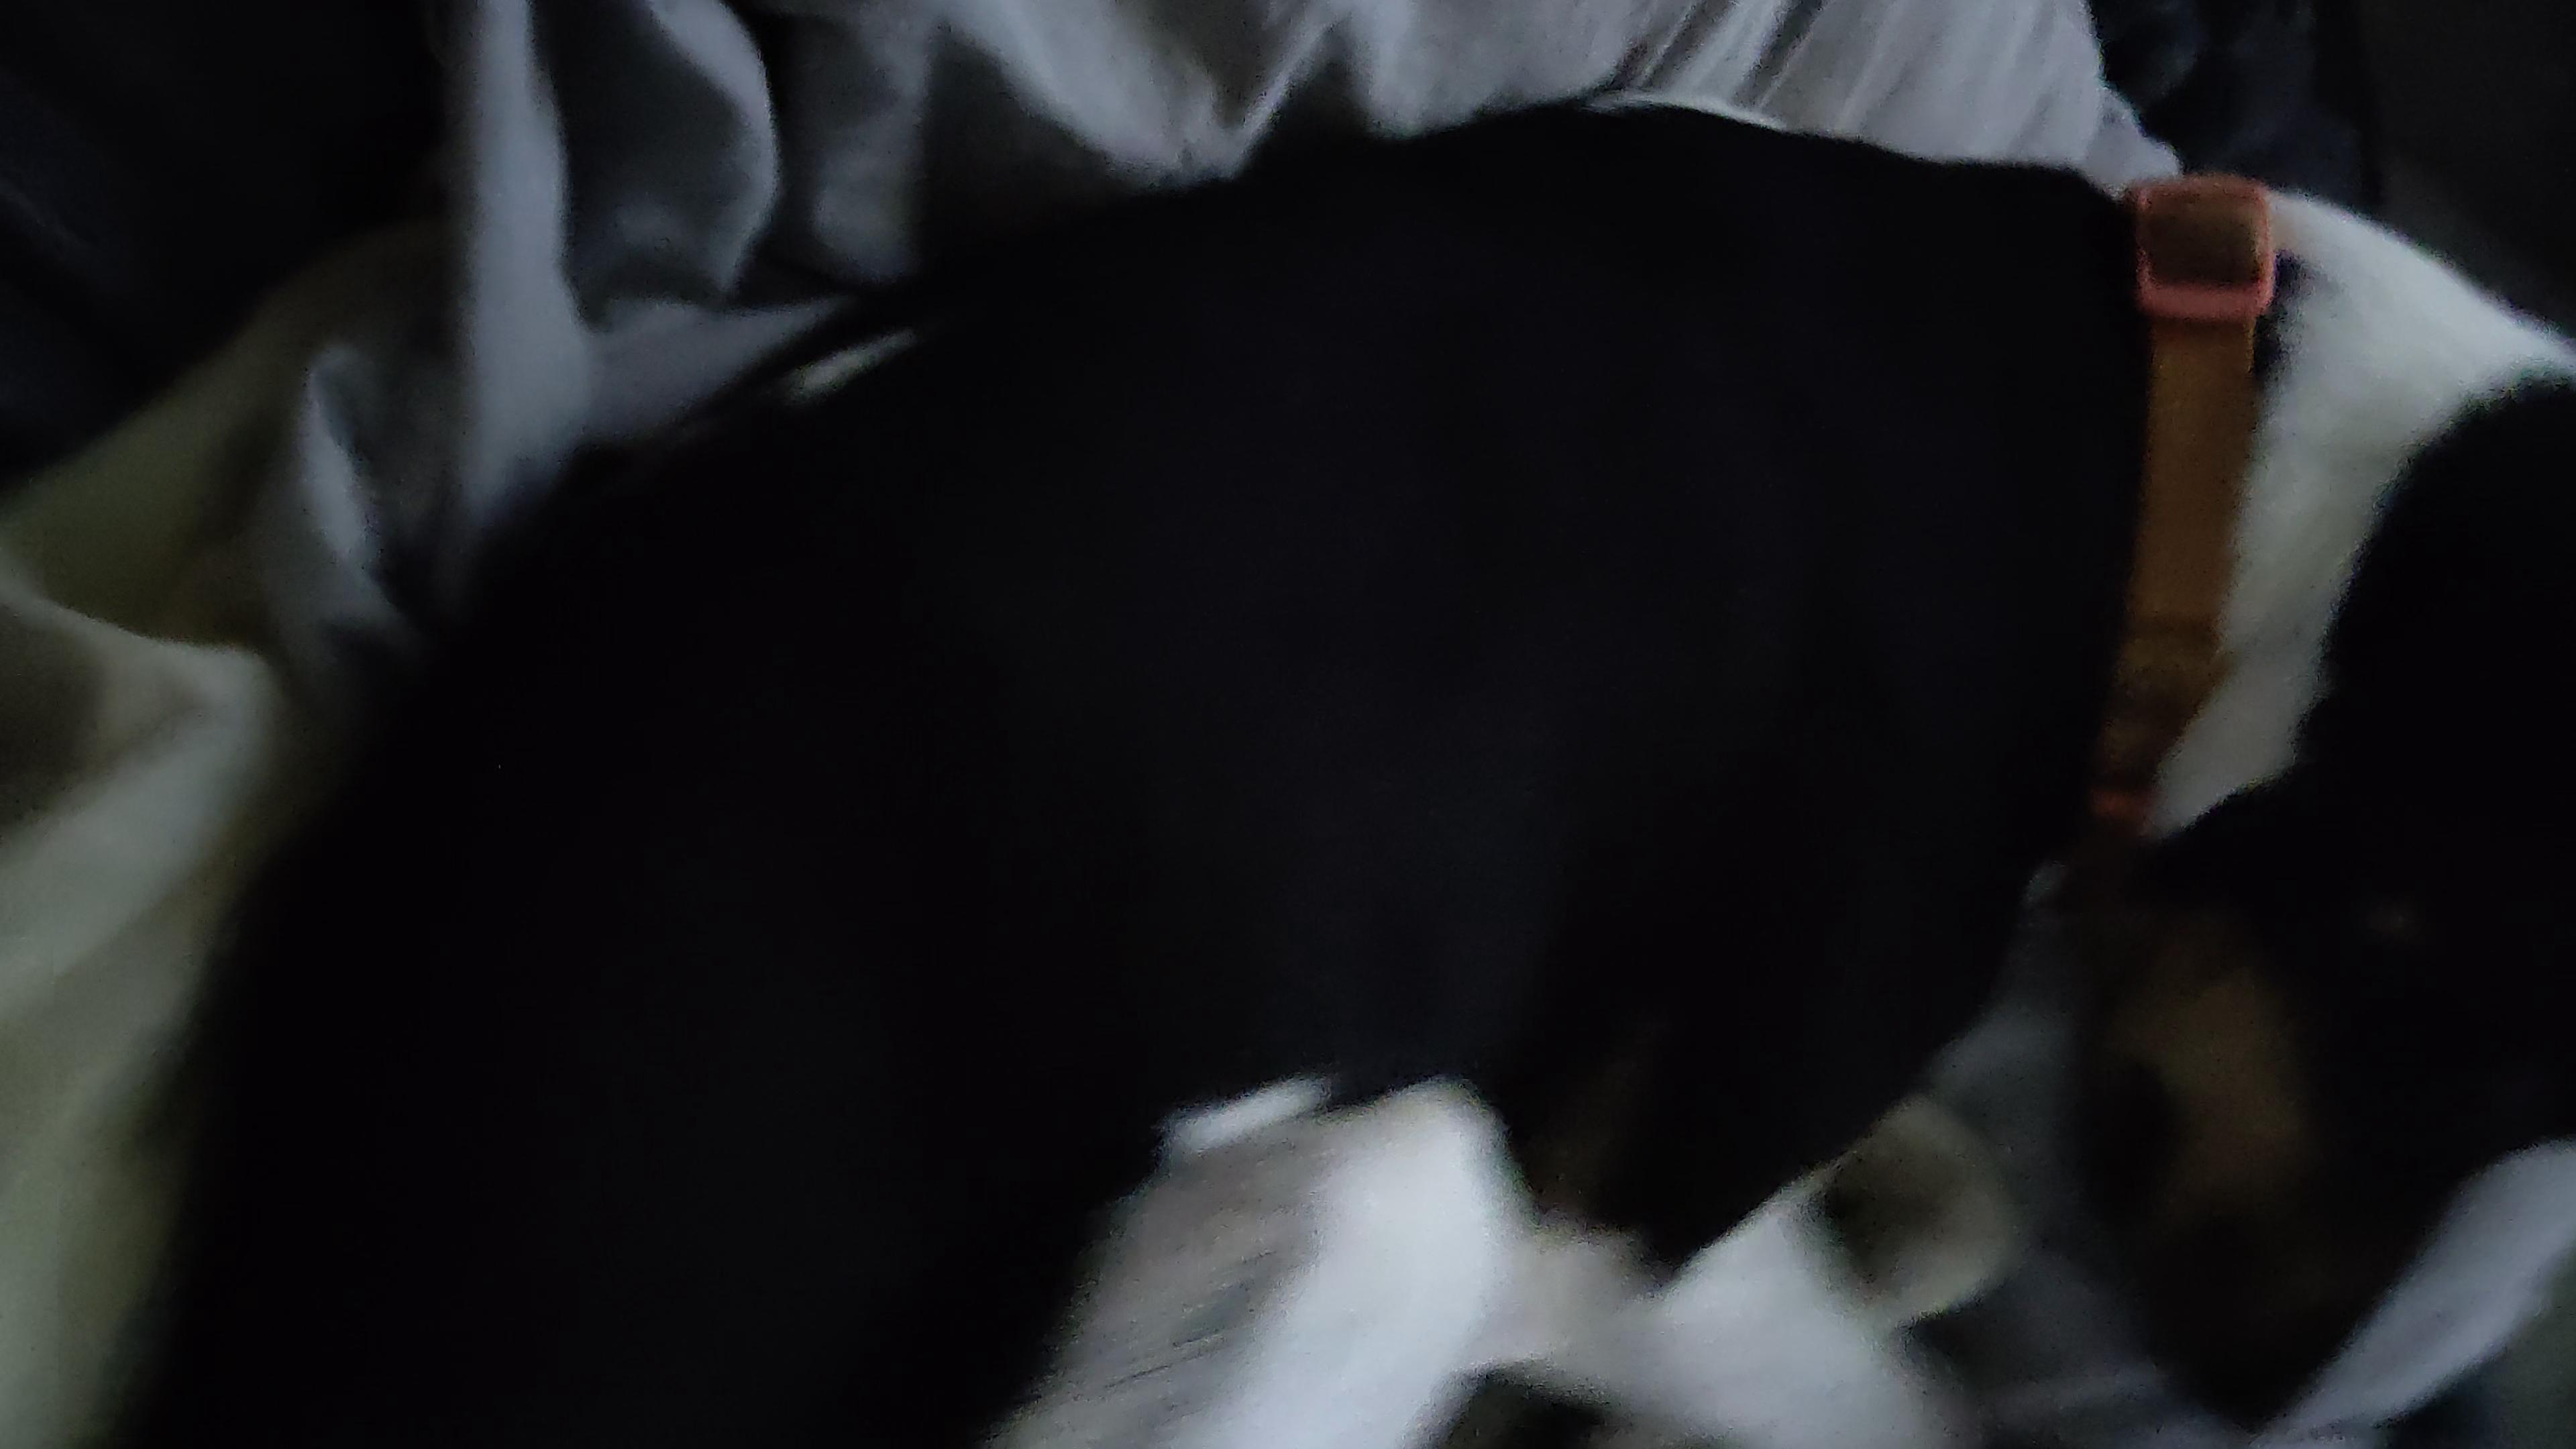Dog: (117, 81, 2576, 1449)
